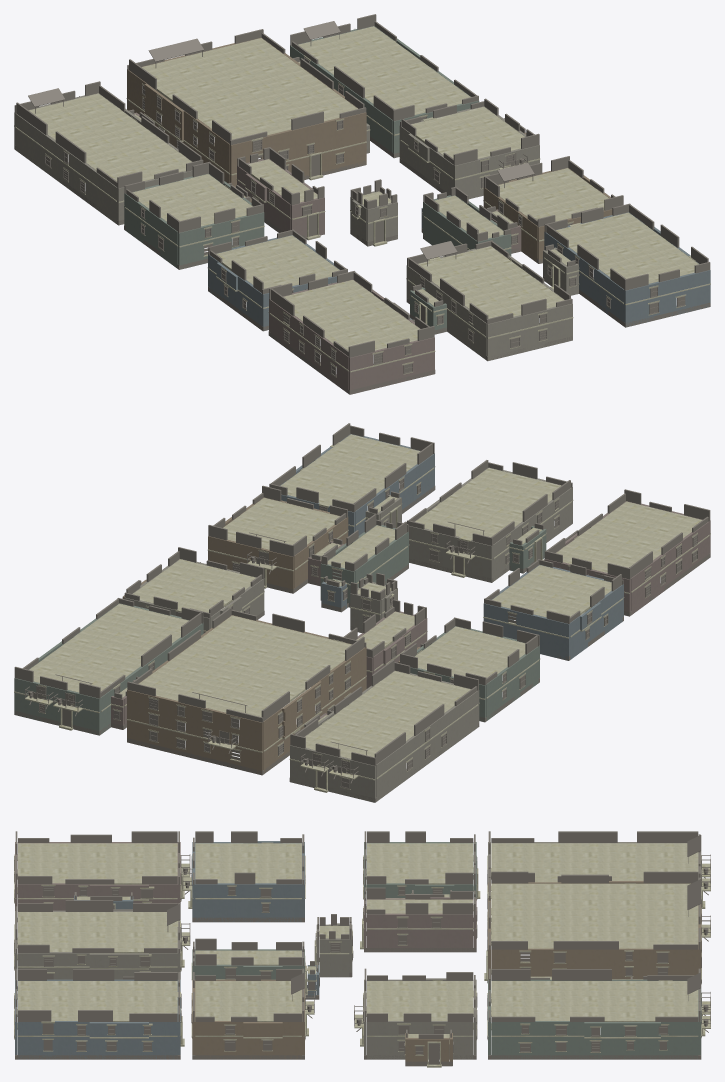
Rendered from lajes_completa.glb.
3 renders of one model, top to bottom at view 1: azimuth 30°, elevation 25°; view 2: azimuth 150°, elevation 25°; view 3: azimuth 270°, elevation 25°, orthographic. The views are drawn at different scales.
Visible parts, largest first — view 1: LAJES_SHELL; view 2: LAJES_SHELL; view 3: LAJES_SHELL.
Part boxes in pixels (bbox=[...]): LAJES_SHELL: bbox=[14, 14, 710, 394]; LAJES_SHELL: bbox=[14, 423, 710, 802]; LAJES_SHELL: bbox=[14, 831, 710, 1067].
Bounding box in the file's own units: 37.94 × 6.31 × 58.92.
Materials: 7 (6 with a texture image).
